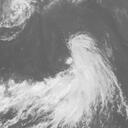cyclone: (66, 33, 103, 74)
